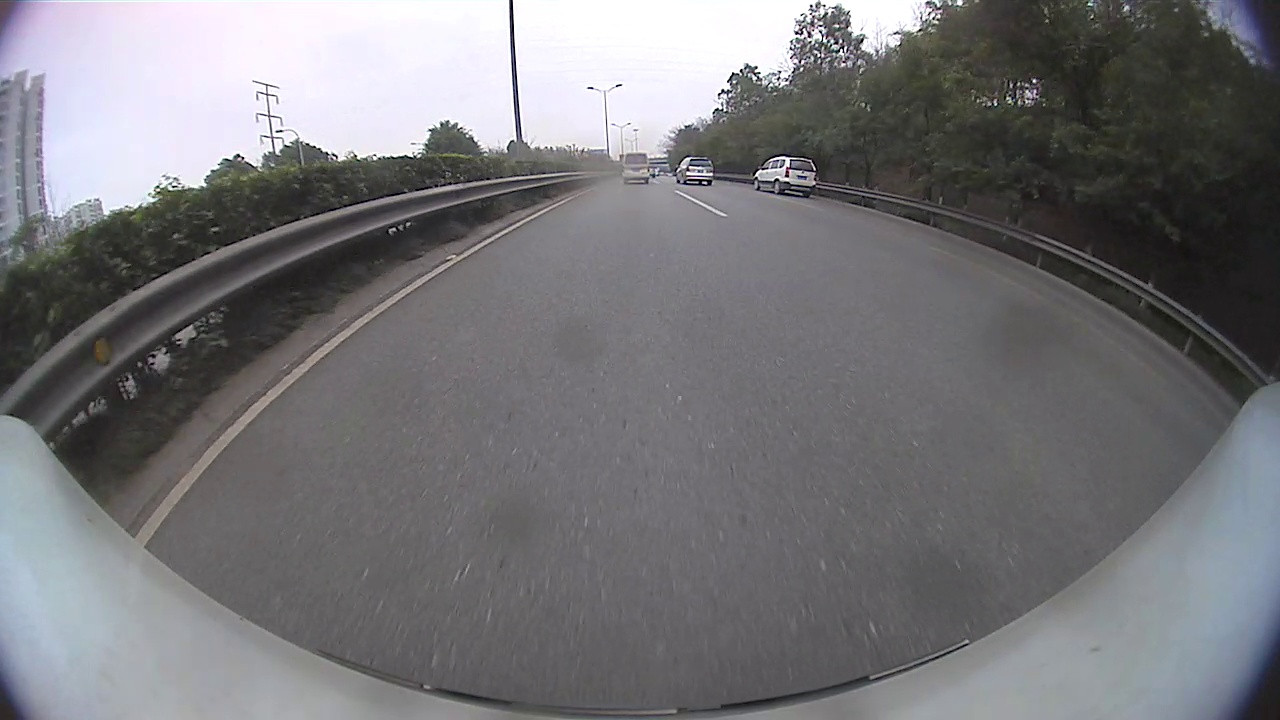car: (751, 155, 817, 198), (675, 155, 714, 185), (620, 151, 650, 183)
front: (752, 180, 760, 190)
rear: (773, 182, 780, 194)
